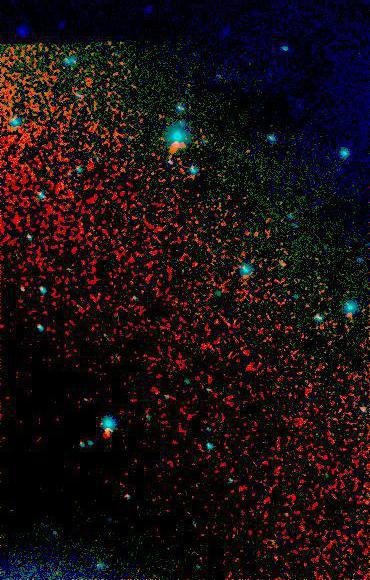star: (161, 132, 191, 162)
